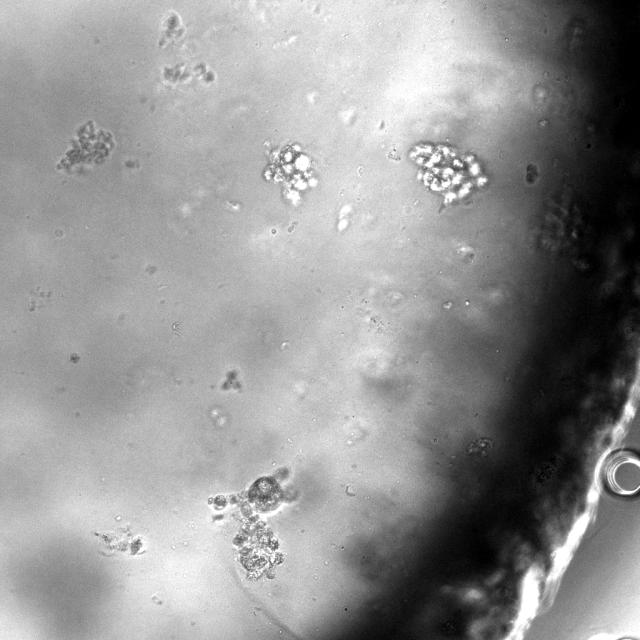organoid: (208, 469, 294, 578), (409, 142, 487, 205), (263, 144, 318, 205), (57, 120, 114, 172), (162, 63, 214, 85), (161, 11, 184, 46), (221, 370, 241, 390)
